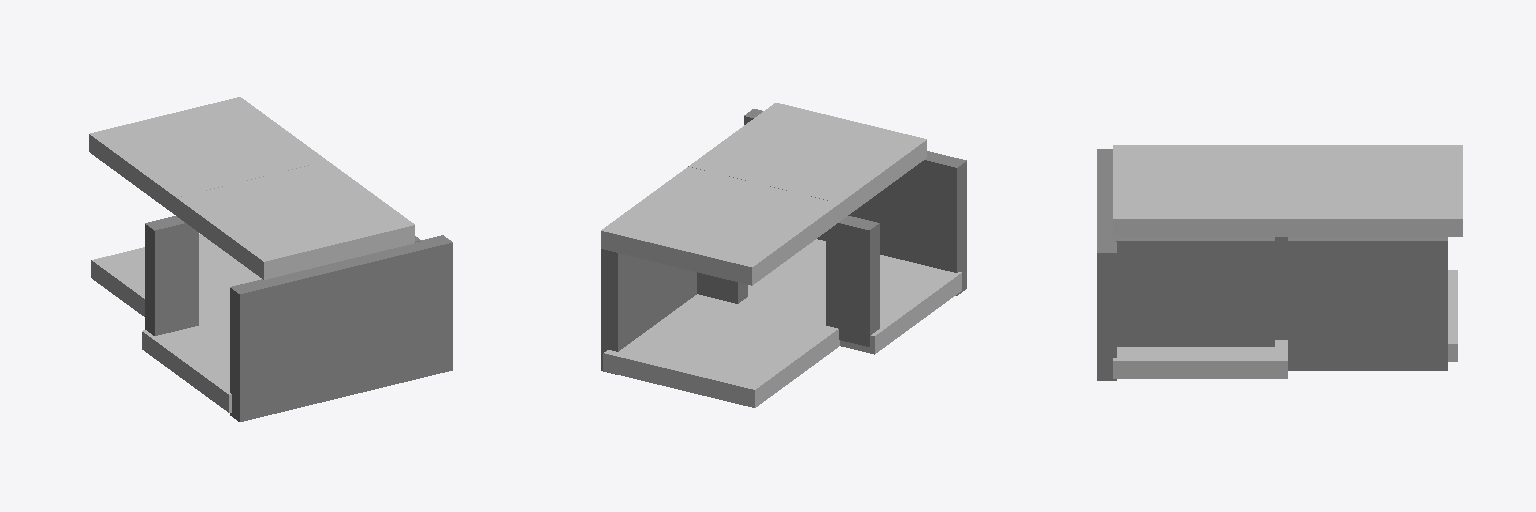
File: komnata.obj
3 renders of one model, left to right at view 1: azimuth 30°, elevation 25°; view 2: azimuth 150°, elevation 25°; view 3: azimuth 270°, elevation 25°, orthographic.
Parts seen in each view (by area): view 1: Куб.004_Куб.007, Куб.001_Куб.010, Куб.007_Куб.013, Куб.003_Куб.008, Куб.005_Куб.011, Куб_Куб.009; view 2: Куб.007_Куб.013, Куб.005_Куб.011, Куб.001_Куб.010, Куб.004_Куб.007, Куб_Куб.009, Куб.003_Куб.008, Куб.006_Куб.012; view 3: Куб.006_Куб.012, Куб.002_Куб.003, Куб.001_Куб.010, Куб.007_Куб.013, Куб_Куб.009, Куб.004_Куб.007, Куб.003_Куб.008, Куб.005_Куб.011.
Part boxes in pixels (x1,y1,x2,y2): Куб.004_Куб.007: (230, 235, 452, 421); Куб.001_Куб.010: (176, 161, 414, 279); Куб.007_Куб.013: (89, 97, 326, 214); Куб.003_Куб.008: (145, 216, 198, 335); Куб.005_Куб.011: (91, 234, 261, 316); Куб_Куб.009: (142, 309, 231, 412); Куб.007_Куб.013: (601, 167, 839, 285); Куб.005_Куб.011: (603, 294, 839, 407); Куб.001_Куб.010: (688, 103, 926, 220); Куб.004_Куб.007: (744, 109, 966, 295); Куб_Куб.009: (742, 239, 961, 354); Куб.003_Куб.008: (697, 216, 879, 346); Куб.006_Куб.012: (601, 249, 696, 374); Куб.006_Куб.012: (1288, 237, 1447, 370); Куб.002_Куб.003: (1116, 237, 1274, 346); Куб.001_Куб.010: (1113, 145, 1287, 236); Куб.007_Куб.013: (1288, 145, 1462, 236); Куб_Куб.009: (1113, 340, 1287, 378); Куб.004_Куб.007: (1097, 149, 1116, 380); Куб.003_Куб.008: (1275, 237, 1287, 339); Куб.005_Куб.011: (1448, 270, 1457, 361).
Bounding box in the file's own units: 25.41 × 16.21 × 36.39.